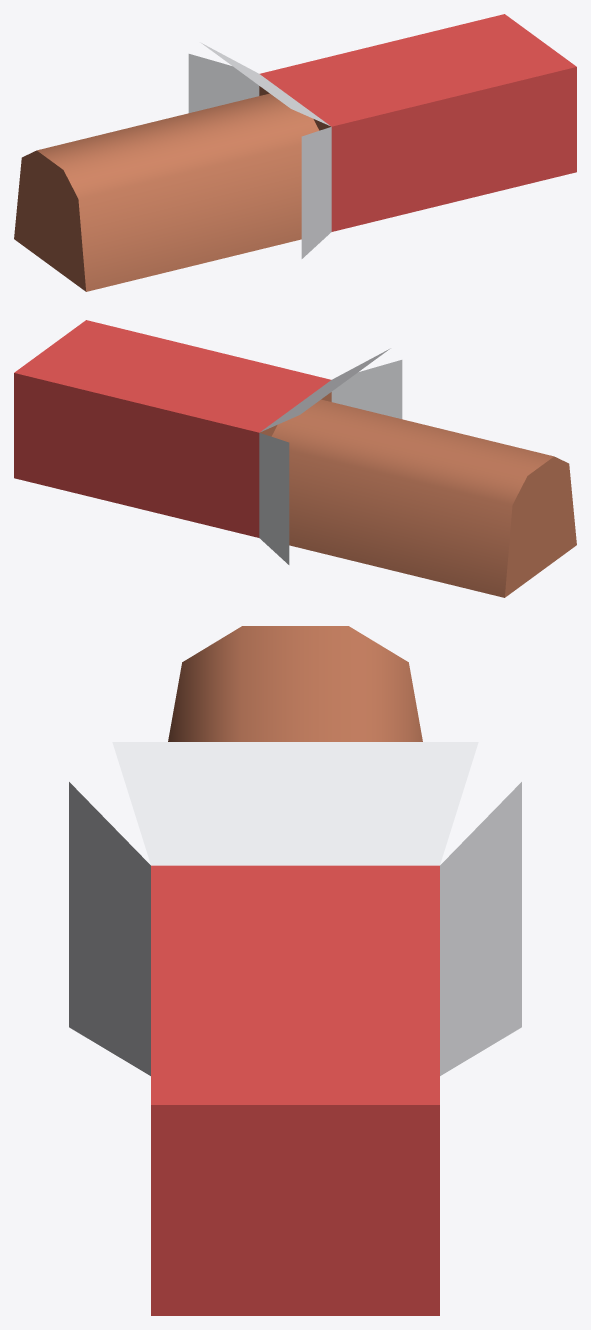
File: candyBarWrapper.GLB
3 renders of one model, top to bottom at view 1: azimuth 30°, elevation 25°; view 2: azimuth 150°, elevation 25°; view 3: azimuth 270°, elevation 25°, orthographic. The views are drawn at different scales.
Parts seen in each view (by area): view 1: candyBarWrapper; view 2: candyBarWrapper; view 3: candyBarWrapper.
Part boxes in pixels (x1,y1,x2,y2): candyBarWrapper: (14, 14, 576, 291); candyBarWrapper: (14, 320, 576, 597); candyBarWrapper: (69, 626, 521, 1315).
Size of the model in its own units: 0.2924 by 0.0812 by 0.1169.
